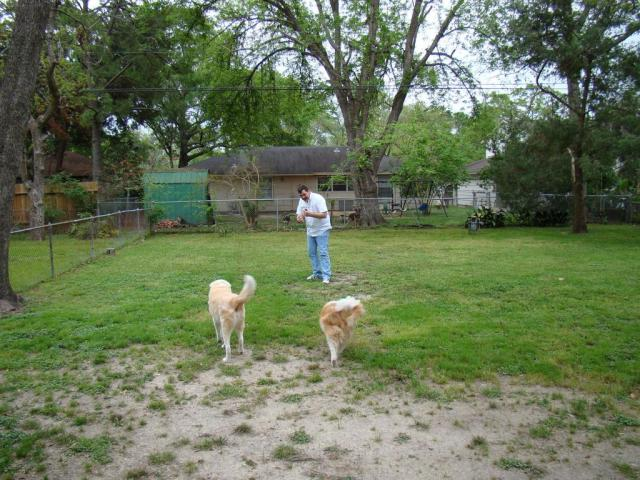Dog: (207, 270, 259, 364), (318, 294, 364, 366)
